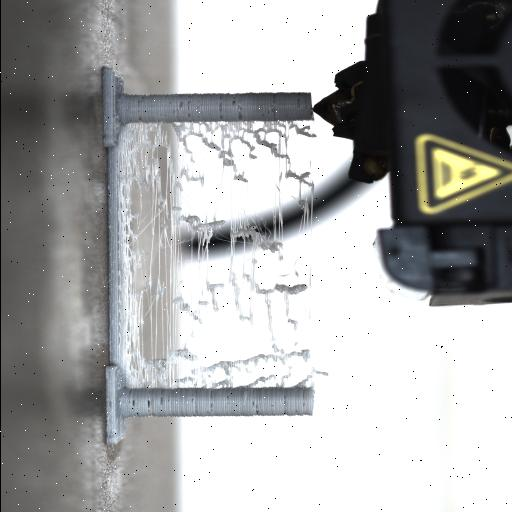stringing: (122, 125, 318, 389)
